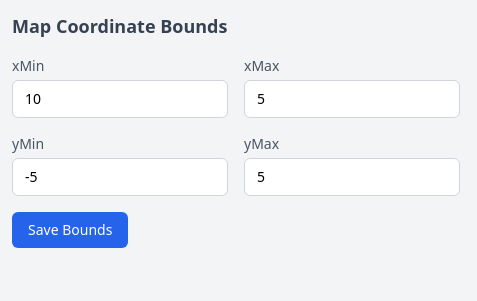
MapConfigForm › shows error when xMin >= xMax
Click the button "Save Bounds" at (70, 230), box [12,212,128,248]
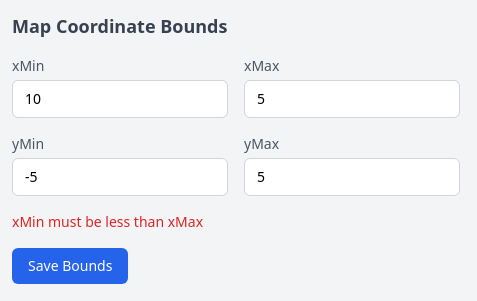
Expected: the message reads "xMin must be less than xMax", [12,212,203,231]
